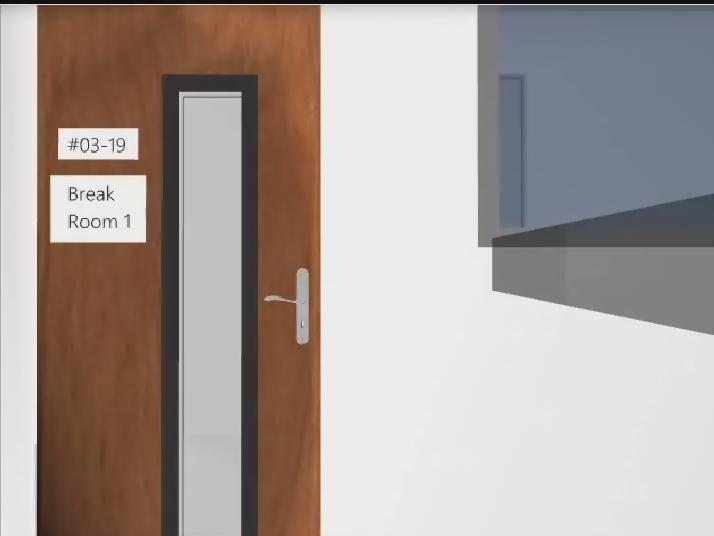door: (37, 5, 320, 536)
